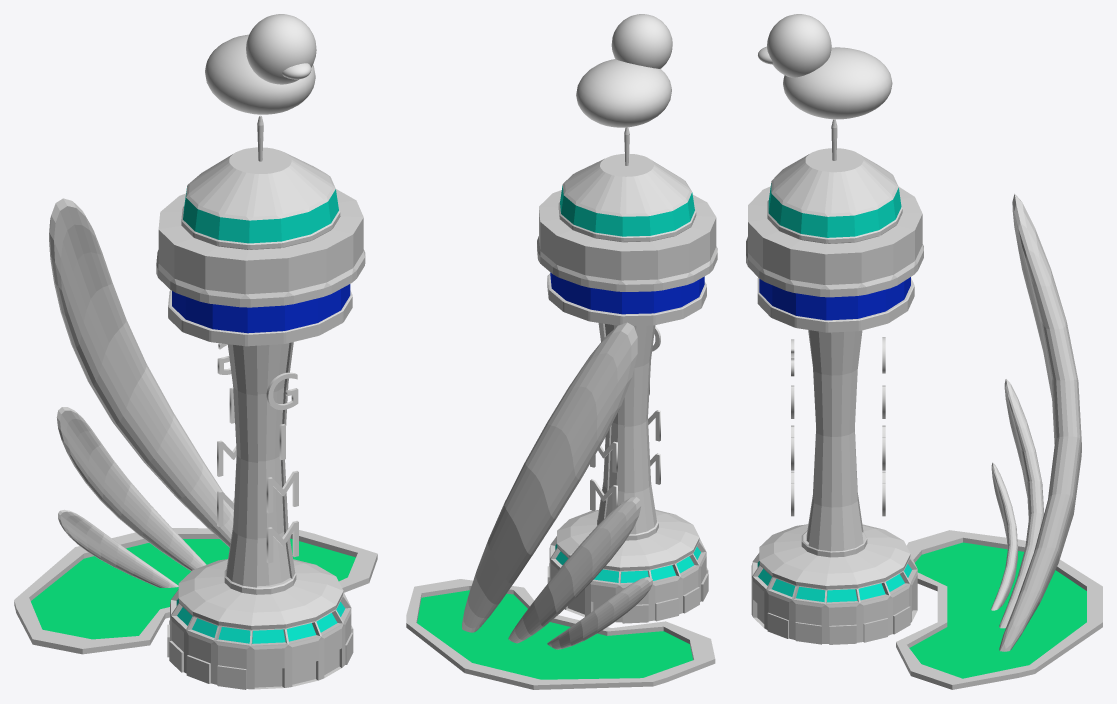
The model's file is GIMMTower.fbx.
3 renders of one model, left to right at view 1: azimuth 30°, elevation 25°; view 2: azimuth 150°, elevation 25°; view 3: azimuth 270°, elevation 25°, orthographic. The views are drawn at different scales.
Visible parts, largest first — view 1: Building, Duck, GIMM, GIMM.001; view 2: Building, Duck, GIMM.001, GIMM; view 3: Building, Duck, GIMM.001, GIMM.
Boxes of the visible parts, bbox=[...] form: Building: bbox=[14, 115, 377, 689]; Duck: bbox=[205, 14, 316, 114]; GIMM: bbox=[266, 372, 298, 563]; GIMM.001: bbox=[217, 343, 236, 526]; Building: bbox=[406, 127, 717, 689]; Duck: bbox=[576, 14, 672, 127]; GIMM.001: bbox=[590, 441, 617, 510]; GIMM: bbox=[648, 326, 660, 484]; Building: bbox=[746, 119, 1102, 689]; Duck: bbox=[758, 14, 892, 119]; GIMM.001: bbox=[882, 337, 885, 516]; GIMM: bbox=[791, 339, 794, 516].
Bounding box in the file's own units: 3509 × 6370 × 3418.
